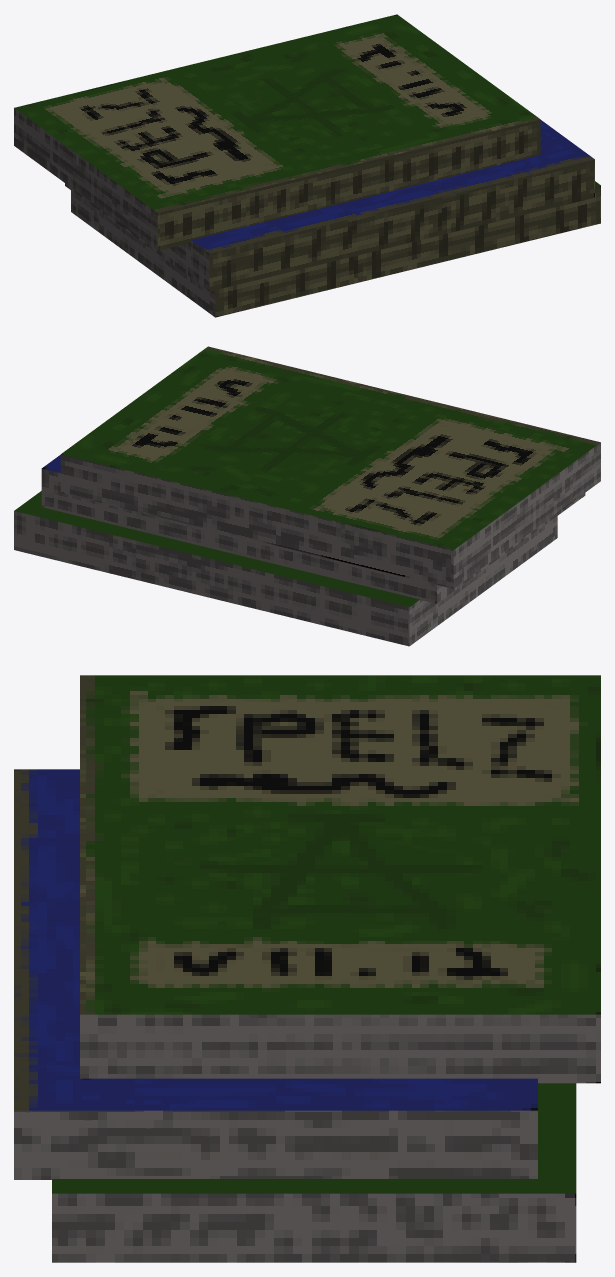
File: BookpileSmall.glb
The picture shows the model from 3 angles, top to bottom: view 1: azimuth 30°, elevation 25°; view 2: azimuth 150°, elevation 25°; view 3: azimuth 270°, elevation 25°; orthographic projection. The views are drawn at different scales.
Visible parts, largest first — view 1: BPsmall-col; view 2: BPsmall-col; view 3: BPsmall-col.
Boxes of the visible parts, <box> form: BPsmall-col: <box>14,14,600,317</box>; BPsmall-col: <box>14,346,600,646</box>; BPsmall-col: <box>14,675,600,1262</box>.
Size of the model in its own units: 2.26 by 0.5512 by 1.45.
1 material, 1 textured.
